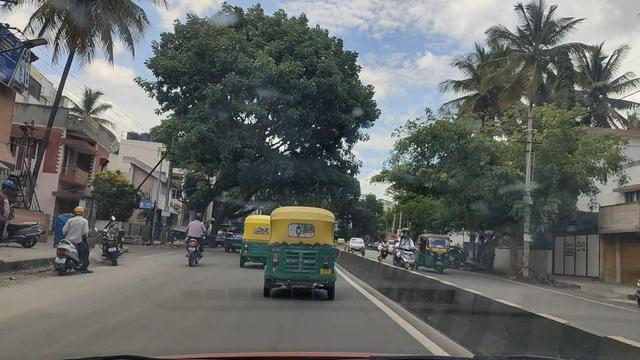LMV: (268, 206, 337, 303), (54, 200, 89, 273), (184, 209, 210, 270), (241, 212, 272, 261)
